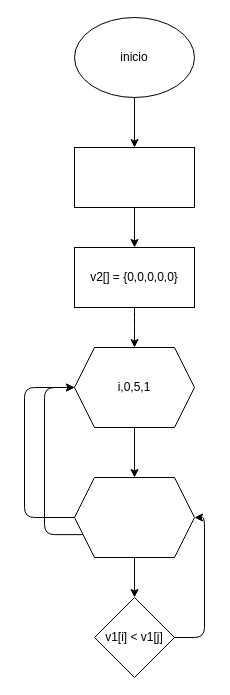
This 230x695 diagram has some shape labels left out. The centre of each missing label's shape, as x and y in pixels:
"j,0,5,1" goes at point 134,517.
"v1[] = {41,72,39,4,35}" goes at point 134,177.
